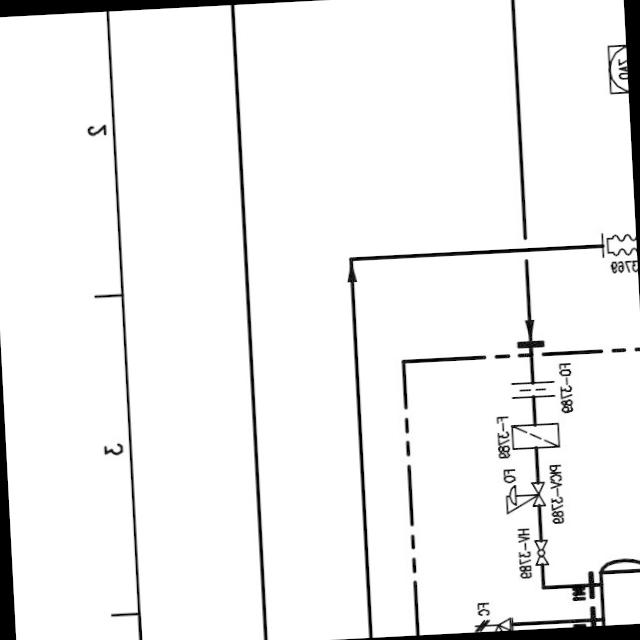BV2: (530, 536, 551, 568)
F2: (508, 418, 563, 454)
O: (506, 374, 559, 404)
PCV: (502, 478, 548, 516)
